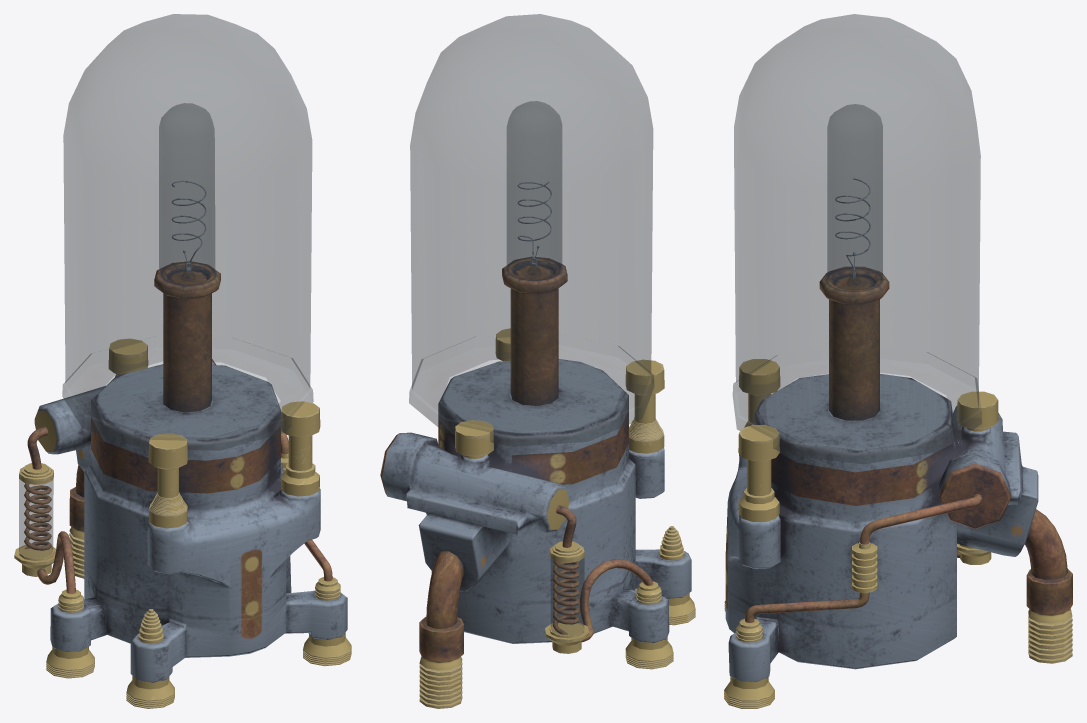
File: table_lamp_steampunk_industrial_light.glb
The picture shows the model from 3 angles, left to right: view 1: azimuth 30°, elevation 25°; view 2: azimuth 150°, elevation 25°; view 3: azimuth 270°, elevation 25°; orthographic projection. The views are drawn at different scales.
Visible parts, largest first — view 1: glass_low, base_low, bulb_low, support_low, lcastle_low, rcastle_low, chamber_low, helix_low, rleg_low, bcastle_low, bleg_low, lleg_low (+6 smaller); view 2: glass_low, base_low, bulb_low, support_low, fatpipe_low, rcastle_low, chamber_low, threads_low, helix_low, bcastle_low, bleg_low, longpipe_low (+6 smaller); view 3: glass_low, base_low, bulb_low, support_low, fatpipe_low, lcastle_low, threads_low, rcastle_low, bcastle_low, longerpipe_low, lleg_low, longestpipe_low (+1 smaller).
Boxes of the visible parts, bbox=[...] form: glass_low: bbox=[62, 14, 313, 450]; base_low: bbox=[34, 359, 347, 682]; bulb_low: bbox=[159, 103, 214, 284]; support_low: bbox=[154, 261, 220, 412]; lcastle_low: bbox=[280, 401, 320, 496]; rcastle_low: bbox=[148, 433, 188, 528]; chamber_low: bbox=[19, 479, 53, 558]; helix_low: bbox=[24, 483, 51, 550]; rleg_low: bbox=[126, 675, 174, 708]; bcastle_low: bbox=[108, 338, 148, 374]; bleg_low: bbox=[46, 647, 94, 678]; lleg_low: bbox=[303, 632, 351, 666]; glass_low: bbox=[409, 14, 654, 446]; base_low: bbox=[380, 359, 691, 643]; bulb_low: bbox=[507, 101, 561, 279]; support_low: bbox=[502, 257, 567, 405]; fatpipe_low: bbox=[419, 551, 464, 661]; rcastle_low: bbox=[625, 359, 664, 453]; chamber_low: bbox=[551, 557, 584, 635]; threads_low: bbox=[419, 656, 462, 708]; helix_low: bbox=[553, 560, 579, 634]; bcastle_low: bbox=[454, 420, 493, 458]; bleg_low: bbox=[625, 637, 673, 669]; longpipe_low: bbox=[580, 559, 653, 642]; glass_low: bbox=[733, 14, 981, 463]; base_low: bbox=[725, 374, 1038, 681]; bulb_low: bbox=[827, 104, 882, 290]; support_low: bbox=[819, 267, 889, 420]; fatpipe_low: bbox=[1024, 509, 1072, 614]; lcastle_low: bbox=[738, 425, 779, 521]; threads_low: bbox=[1028, 609, 1072, 663]; rcastle_low: bbox=[739, 359, 780, 427]; bcastle_low: bbox=[957, 391, 998, 431]; longerpipe_low: bbox=[860, 494, 982, 544]; lleg_low: bbox=[724, 676, 774, 708]; longestpipe_low: bbox=[745, 592, 869, 622].
Size of the model in its own units: 380 by 883 by 446.
4 materials, 4 textured.
